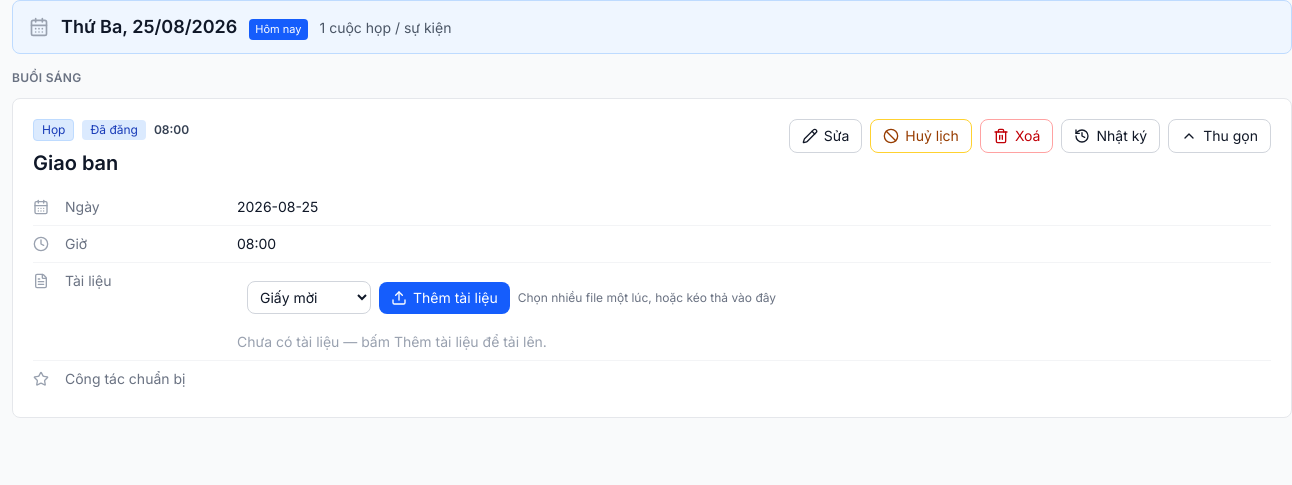
Test: LichNgay — xem toàn bộ cuộc họp của một ngày › huỷ một cuộc thì thẻ đó đổi ngay, không chờ nạp lại cả ngày
Click the button "Huỷ lịch" at (921, 136), box [870,119,972,153]
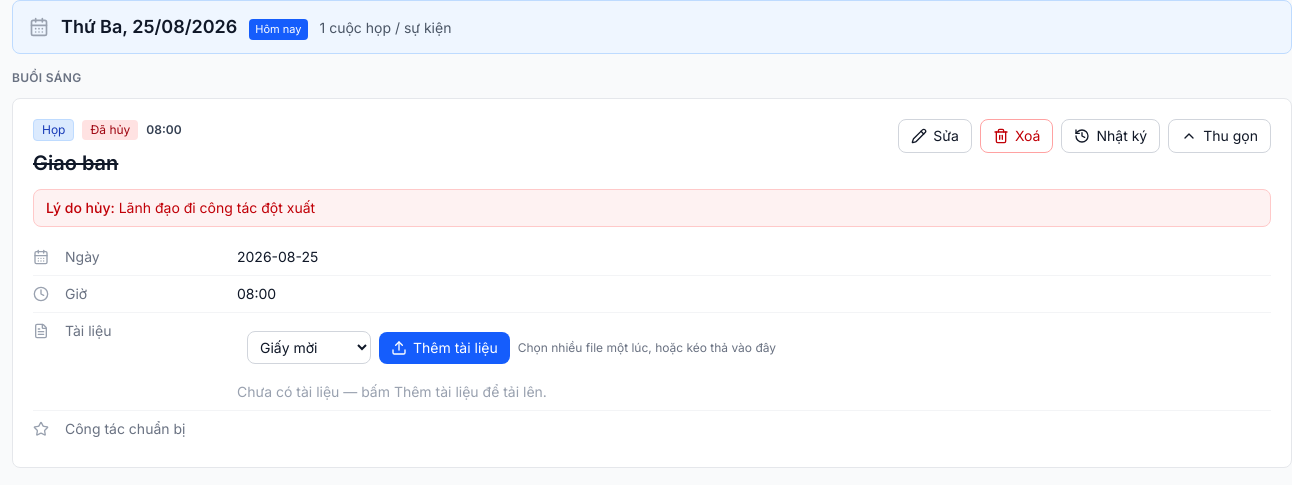
Expected: the text "Đã hủy" is shown, [82,120,138,140]
Expected: the text "Lãnh đạo đi công tác đột xuất" is shown, [119,199,315,216]
